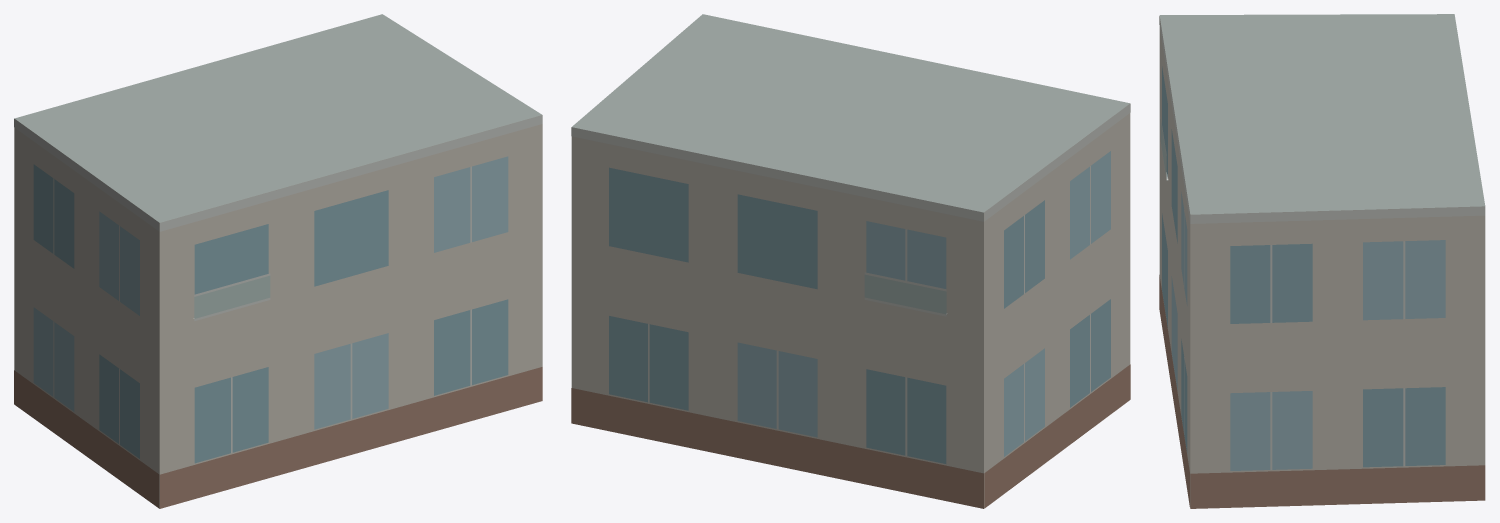
The model's file is survey-upis-32926360.glb.
3 renders of one model, left to right at view 1: azimuth 30°, elevation 25°; view 2: azimuth 150°, elevation 25°; view 3: azimuth 270°, elevation 25°, orthographic. The views are drawn at different scales.
Parts seen in each view (by area): view 1: survey-upis-32926360.tmp; view 2: survey-upis-32926360.tmp; view 3: survey-upis-32926360.tmp.
Boxes of the visible parts, bbox=[...] form: survey-upis-32926360.tmp: bbox=[14, 14, 542, 508]; survey-upis-32926360.tmp: bbox=[571, 14, 1130, 508]; survey-upis-32926360.tmp: bbox=[1159, 14, 1485, 508].
Bounding box in the file's own units: 11.43 × 7.8 × 7.84.
